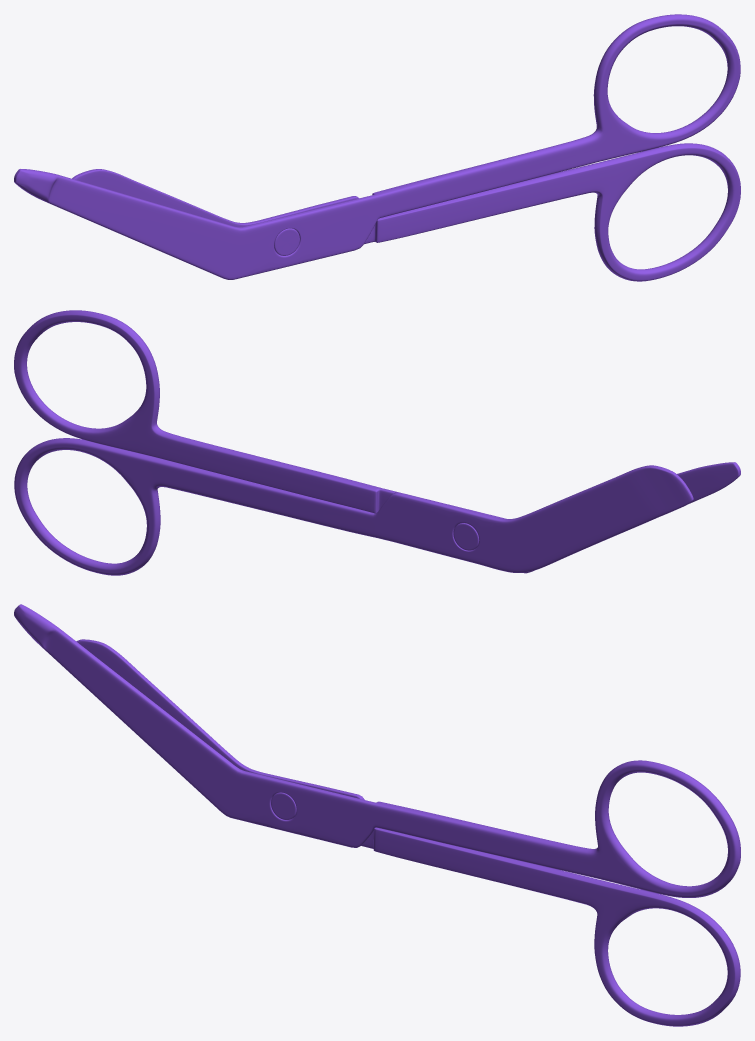
File: BandageScissors.FBX
The picture shows the model from 3 angles, top to bottom: view 1: azimuth 30°, elevation 25°; view 2: azimuth 150°, elevation 25°; view 3: azimuth 330°, elevation 25°; orthographic projection.
Visible parts, largest first — view 1: BandageScissors; view 2: BandageScissors; view 3: BandageScissors.
Part boxes in pixels (left/top/right/bottom): BandageScissors: left=14, top=14, right=740, bottom=281; BandageScissors: left=14, top=310, right=740, bottom=575; BandageScissors: left=14, top=604, right=740, bottom=1026.
Size of the model in its own units: 16.12 by 5.63 by 0.2872.
